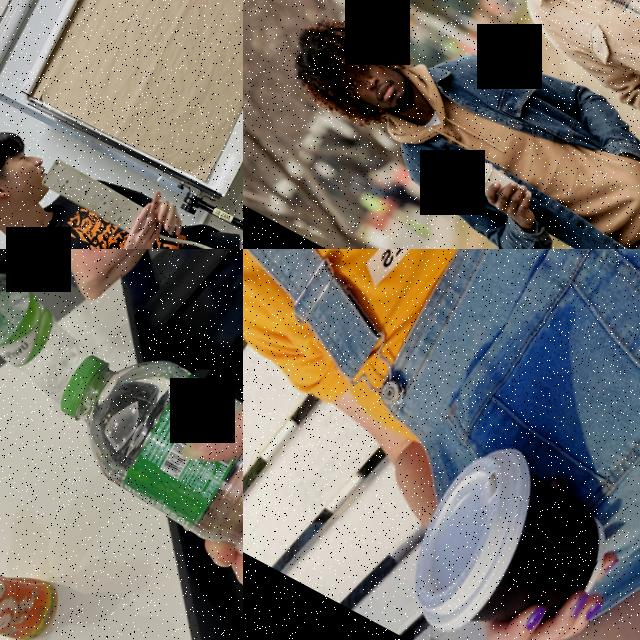bottle: (21, 317, 243, 640), (0, 250, 108, 405), (0, 513, 68, 640)
cup: (383, 425, 634, 640), (465, 155, 538, 214)
